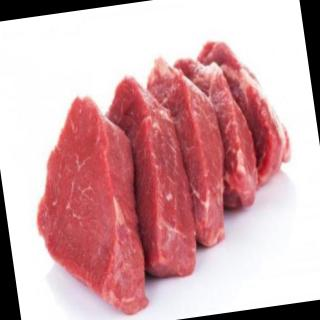Daging Sapi: (20, 31, 311, 320), (23, 88, 151, 320), (102, 68, 202, 283), (144, 46, 233, 256), (193, 36, 296, 189)
